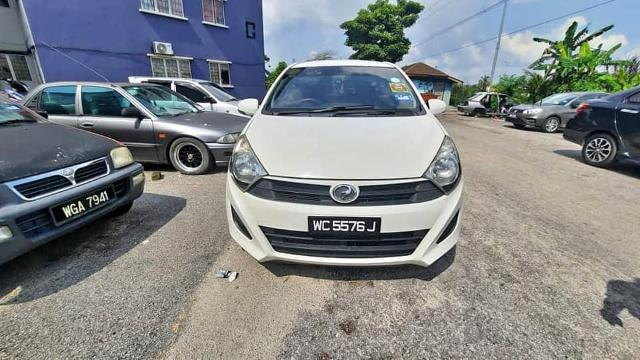License_Plate: (56, 184, 113, 227), (310, 217, 381, 239)
car: (228, 60, 466, 275), (1, 71, 149, 265)
